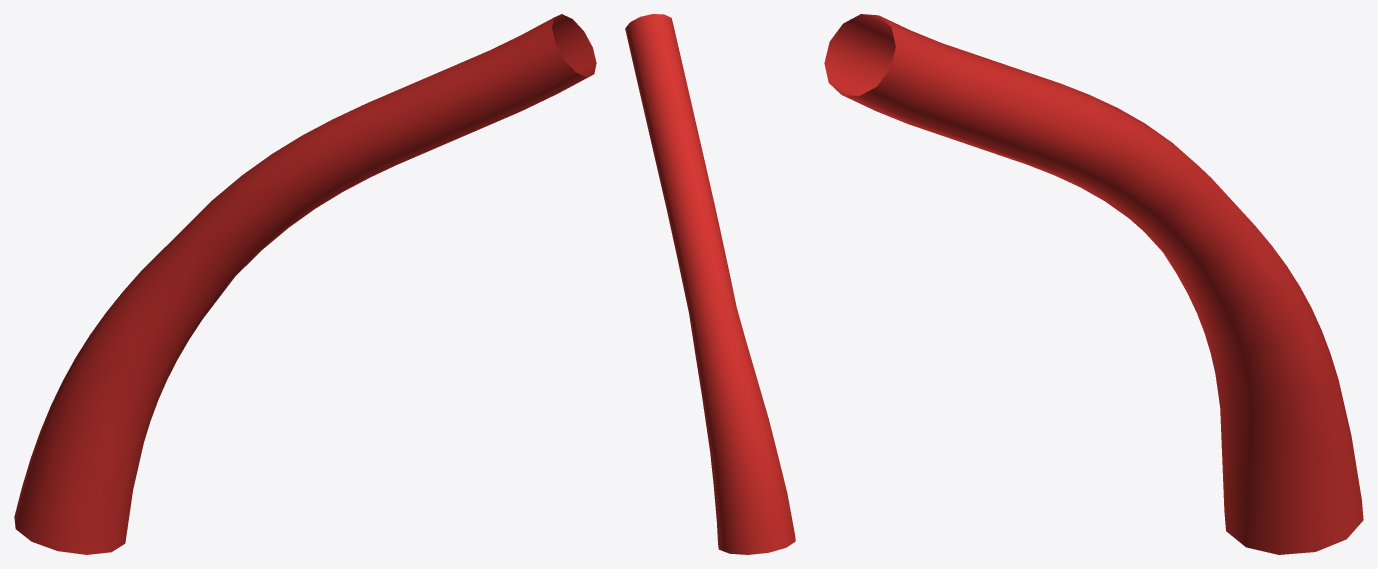
The model's file is circulatorio-posterior-division-of-retromandibular-vein-r.glb.
3 views of the same model, side by side, from view 1: azimuth 30°, elevation 25°; view 2: azimuth 150°, elevation 25°; view 3: azimuth 270°, elevation 25° (orthographic). The views are drawn at different scales.
Parts seen in each view (by area): view 1: Posterior division of retromandibular vein.r; view 2: Posterior division of retromandibular vein.r; view 3: Posterior division of retromandibular vein.r.
Part boxes in pixels (x1,y1,x2,y2): Posterior division of retromandibular vein.r: (14,14,596,554); Posterior division of retromandibular vein.r: (625,14,795,554); Posterior division of retromandibular vein.r: (824,14,1363,554).
Bounding box in the file's own units: 0.0105 × 0.0141 × 0.00982.
